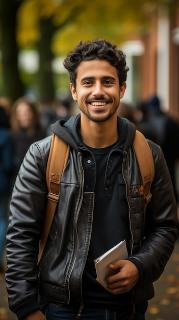person - v3 P: (6, 39, 178, 319), (0, 105, 13, 272)
